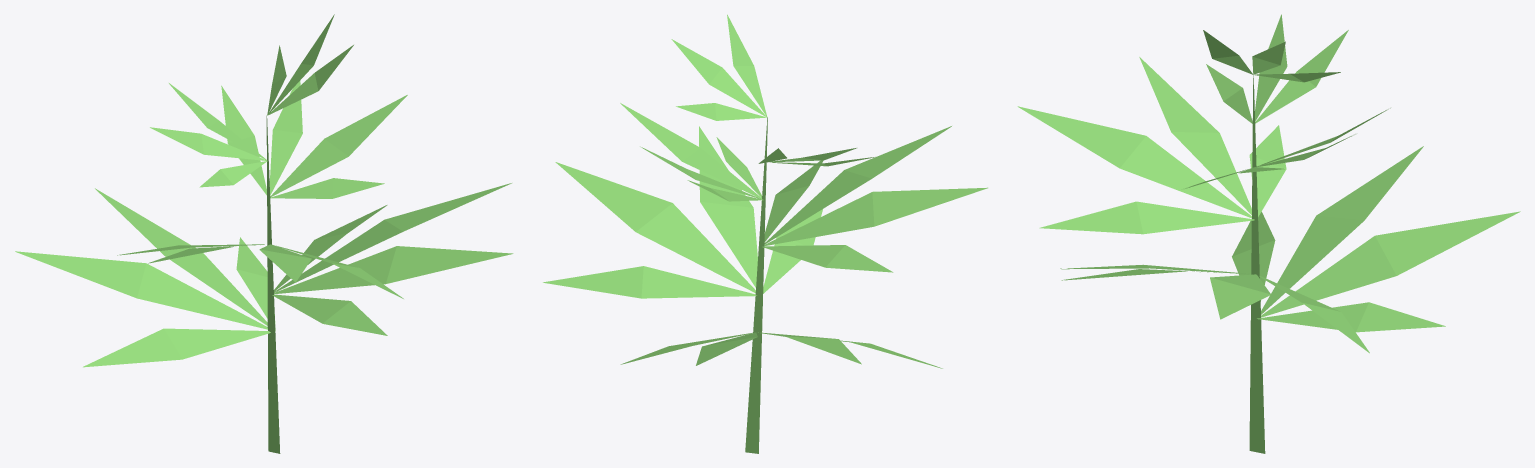
Rendered from Plant_i_TwoS_05.fbx.
3 views of the same model, side by side, from view 1: azimuth 30°, elevation 25°; view 2: azimuth 150°, elevation 25°; view 3: azimuth 270°, elevation 25° (orthographic). The views are drawn at different scales.
Visible parts, largest first — view 1: Plant_i_TwoS_05; view 2: Plant_i_TwoS_05; view 3: Plant_i_TwoS_05.
Boxes of the visible parts, x1,y1,x2,y2 form: Plant_i_TwoS_05: [15, 14, 513, 453]; Plant_i_TwoS_05: [543, 14, 987, 453]; Plant_i_TwoS_05: [1017, 14, 1520, 453].
Size of the model in its own units: 25.9 by 24.72 by 25.11.
